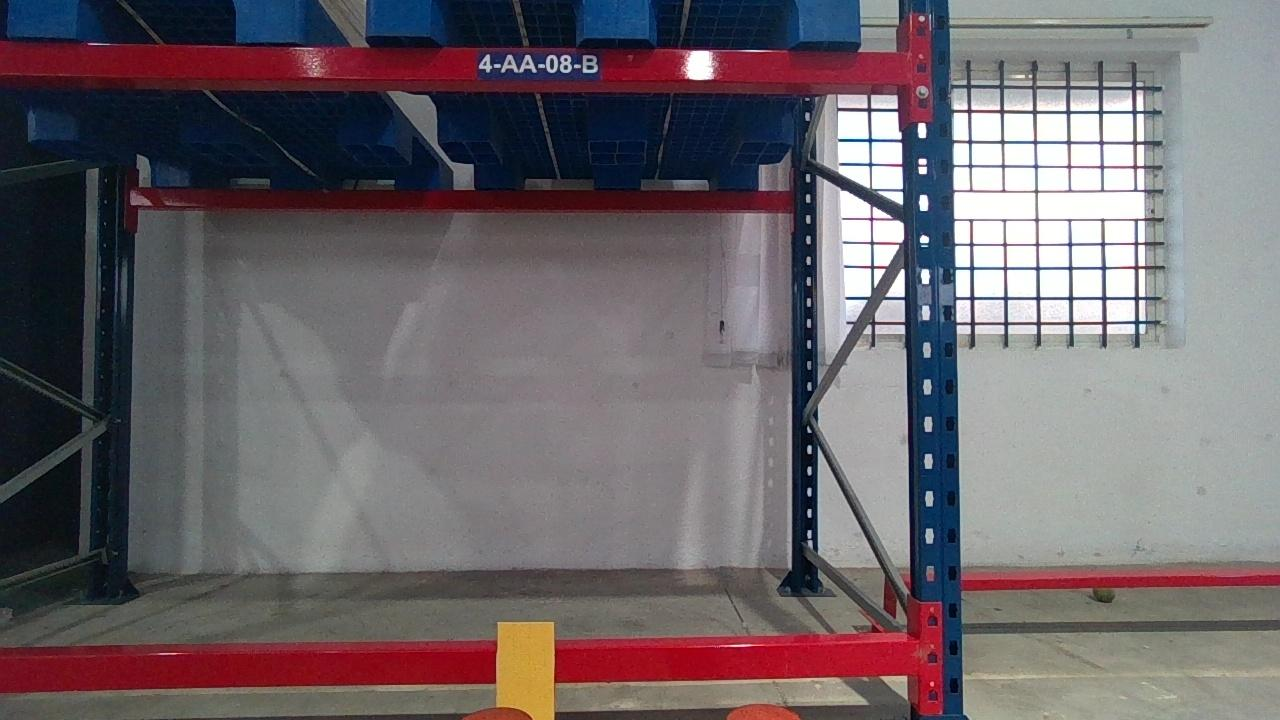h_rack: (0, 643, 933, 688), (3, 40, 920, 85)
orange_strip: (495, 621, 556, 717)
small_pallet: (363, 0, 863, 40), (2, 0, 302, 39)
